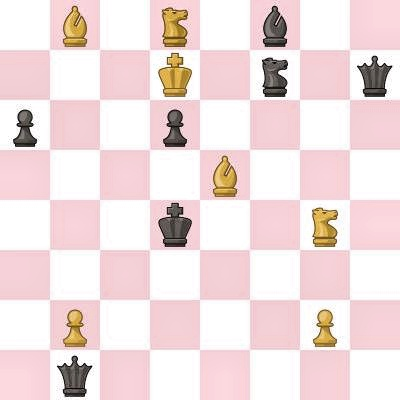black-bishop: (250, 0, 300, 50)
black-king: (150, 200, 200, 250)
black-knight: (250, 50, 300, 100)
black-pawn: (0, 100, 50, 150), (150, 100, 200, 150)
black-queen: (350, 50, 400, 100), (50, 350, 100, 400)
white-bishop: (50, 0, 100, 50), (200, 150, 250, 200)
white-king: (150, 50, 200, 100)
white-knight: (150, 0, 200, 50), (300, 200, 350, 250)
white-pawn: (50, 300, 100, 350), (300, 300, 350, 350)
